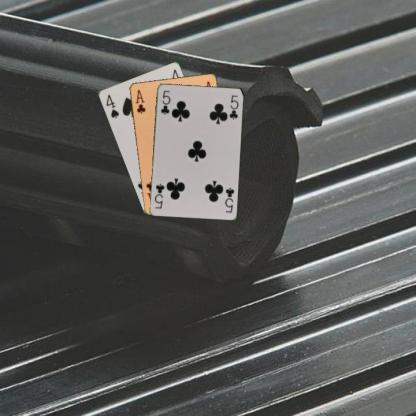4s: (103, 91, 120, 120)
5c: (158, 88, 172, 115), (222, 185, 235, 214)
Ac: (133, 87, 146, 115)
